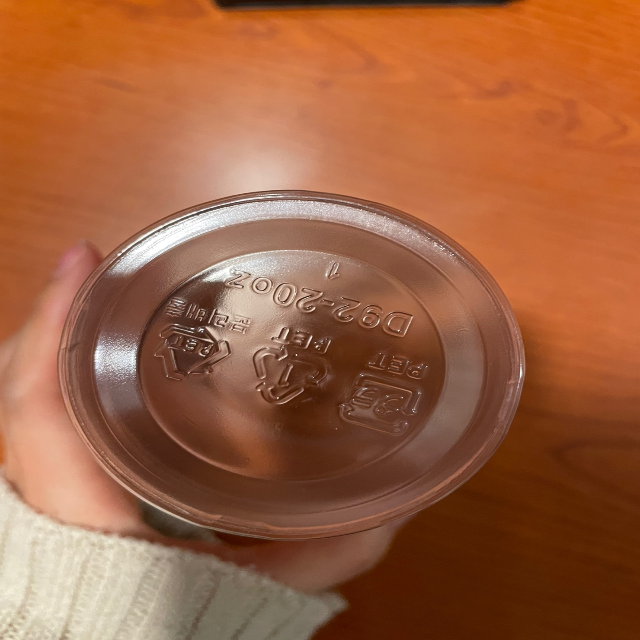pet: (154, 290, 250, 386), (337, 349, 429, 440), (250, 323, 336, 414)
